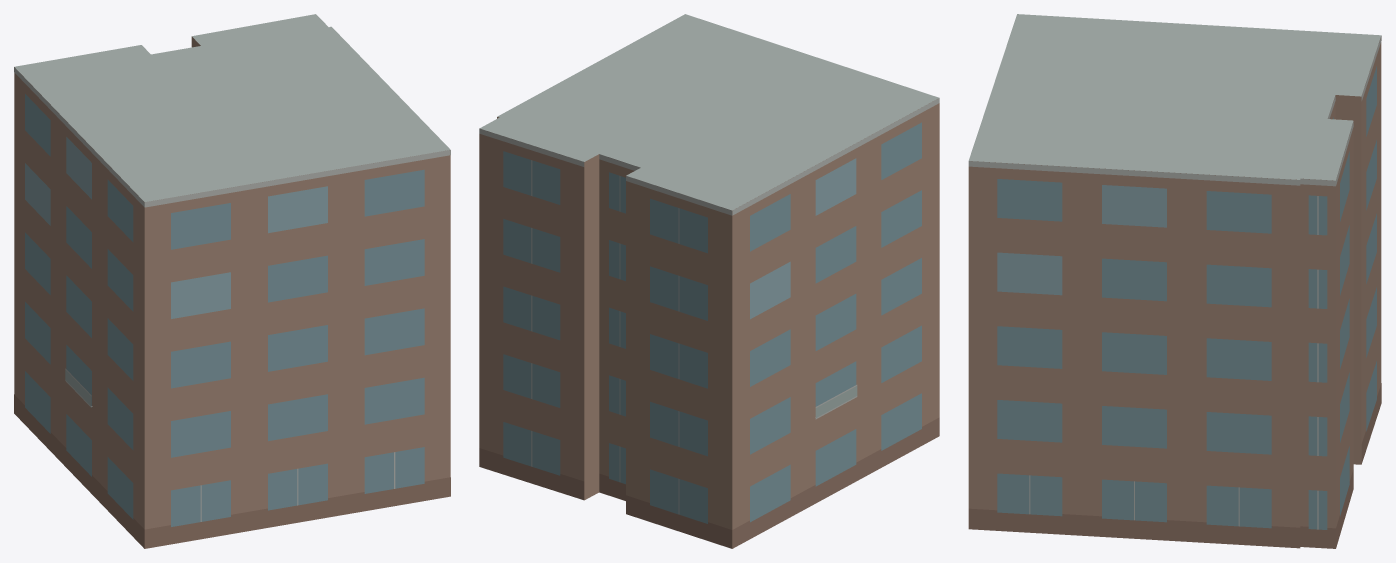
File: survey-upis-32669987.glb
3 views of the same model, side by side, from view 1: azimuth 30°, elevation 25°; view 2: azimuth 150°, elevation 25°; view 3: azimuth 270°, elevation 25° (orthographic). The views are drawn at different scales.
Parts seen in each view (by area): view 1: survey-upis-32669987.tmp; view 2: survey-upis-32669987.tmp; view 3: survey-upis-32669987.tmp.
Part boxes in pixels (x1=…): survey-upis-32669987.tmp: x1=14, y1=14, x2=450, y2=548; survey-upis-32669987.tmp: x1=479, y1=14, x2=939, y2=548; survey-upis-32669987.tmp: x1=968, y1=14, x2=1381, y2=548.
Bounding box in the file's own units: 15.29 × 15.75 × 16.01.
